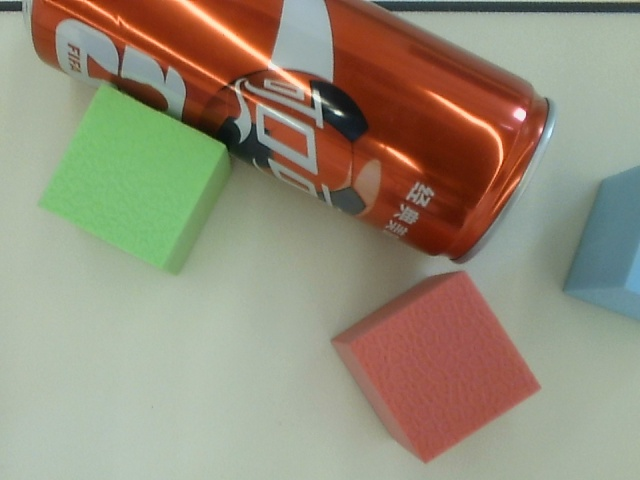bluecube: (566, 165, 640, 323)
cola: (19, 1, 564, 276)
greencube: (28, 81, 244, 283)
redcube: (325, 270, 552, 463)
